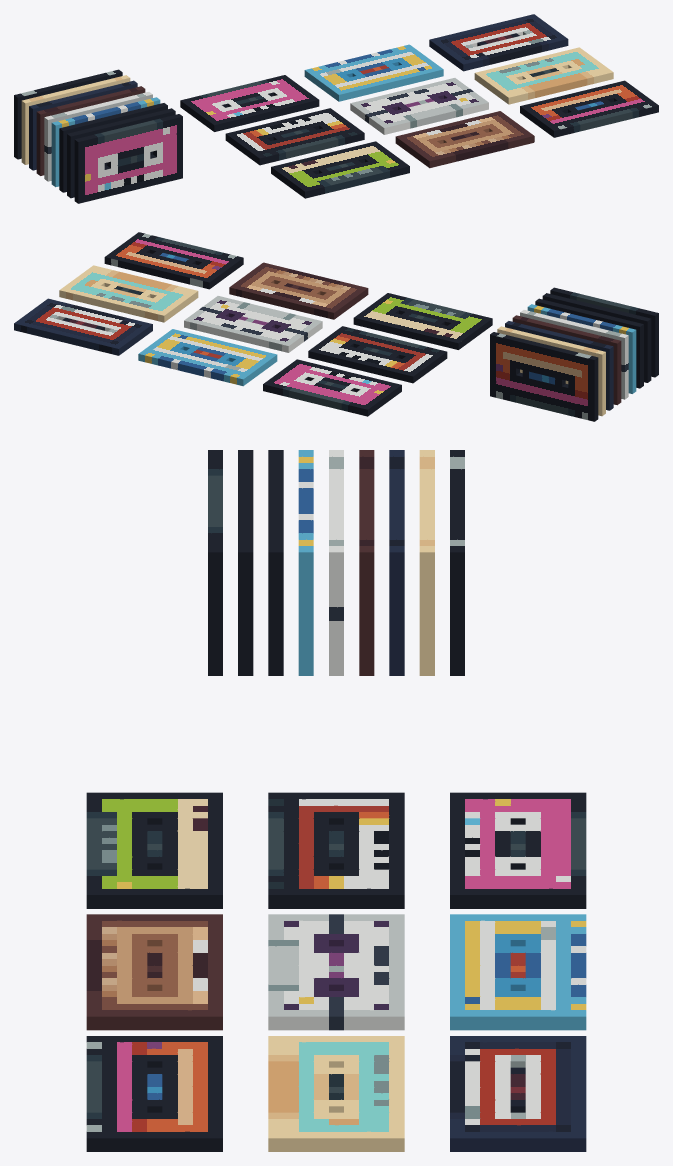
The model's file is cassette.gltf.
3 views of the same model, one above another, from view 1: azimuth 30°, elevation 25°; view 2: azimuth 150°, elevation 25°; view 3: azimuth 270°, elevation 25° (orthographic). The views are drawn at different scales.
Parts seen in each view (by area): view 1: dba01d5c-e5ff-0139-42b0-fa9caeefd33b_60, 944ec6bf-74b9-09a5-8c65-0edcdf06d1db_59, b11d3a50-2eb6-d515-47a6-80f2ba2d221c_57, 27c86312-893c-df17-f04e-76f054211648_61, 46438454-2e29-c8b2-bd24-33da45283afb_40, 01e09fb2-f293-d9f7-32dc-adf88a7c8351_16, c99c4dc4-1614-0967-ed47-35e3dfdc2b39_22, 9fb91285-8524-d3d2-edd9-91dd8a35c151_34, 2e8fb262-2e87-f7c9-bfe1-3902e0326695_46, d0fcfe18-6b99-1fb1-1227-7081acd08198_4, 708e3056-2c17-e092-43ad-4884959a681c_10, 40709a30-ba6e-0be1-0994-65b539ece509_52 (+45 smaller); view 2: 69b3a82b-7abc-6428-7893-d1bb721ed423_105, 81ef698e-82b2-a2dd-b04b-b4439863406d_108, 8023803f-db0a-9fdb-8421-ac52ca0b7873_106, 5b567adc-9938-9de3-edac-0ab159273f78_109, 40709a30-ba6e-0be1-0994-65b539ece509_52, d0fcfe18-6b99-1fb1-1227-7081acd08198_4, c99c4dc4-1614-0967-ed47-35e3dfdc2b39_22, 9fb91285-8524-d3d2-edd9-91dd8a35c151_34, 2e8fb262-2e87-f7c9-bfe1-3902e0326695_46, 708e3056-2c17-e092-43ad-4884959a681c_10, 01e09fb2-f293-d9f7-32dc-adf88a7c8351_16, 46438454-2e29-c8b2-bd24-33da45283afb_40 (+45 smaller); view 3: f1f50c6f-960e-a3f4-1a6b-6b08d45befc9_9, 9de8d4df-b696-7938-6e69-01106f19448f_27, 55faf73e-70f7-c9b9-d4ae-45eeabddb3b0_45, b8f41e9e-6ff2-d152-2ef5-a394fe089315_3, d4f0cc1b-2ad0-6ca9-9c86-52af8bf47bb4_15, 3a7e12b2-a648-2724-2e19-105e2ea44c71_21, b48f9f81-61b3-e073-5c47-6437027111e8_33, 48b816ac-44c3-4e0b-c3ce-b25eb82a6cd2_39, 1fbfa798-2292-16de-2a61-882e7134f4c5_51, d0fcfe18-6b99-1fb1-1227-7081acd08198_4, 01e09fb2-f293-d9f7-32dc-adf88a7c8351_16, 708e3056-2c17-e092-43ad-4884959a681c_10 (+33 smaller).
Boxes of the visible parts, x1,y1,x2,y2 form: dba01d5c-e5ff-0139-42b0-fa9caeefd33b_60: (74, 133, 104, 203); 944ec6bf-74b9-09a5-8c65-0edcdf06d1db_59: (153, 114, 182, 184); b11d3a50-2eb6-d515-47a6-80f2ba2d221c_57: (101, 120, 156, 162); 27c86312-893c-df17-f04e-76f054211648_61: (104, 154, 156, 197); 46438454-2e29-c8b2-bd24-33da45283afb_40: (429, 33, 489, 71); 01e09fb2-f293-d9f7-32dc-adf88a7c8351_16: (271, 160, 331, 198); c99c4dc4-1614-0967-ed47-35e3dfdc2b39_22: (304, 63, 364, 101); 9fb91285-8524-d3d2-edd9-91dd8a35c151_34: (395, 130, 455, 168); 2e8fb262-2e87-f7c9-bfe1-3902e0326695_46: (474, 66, 534, 104); d0fcfe18-6b99-1fb1-1227-7081acd08198_4: (180, 94, 240, 131); 708e3056-2c17-e092-43ad-4884959a681c_10: (225, 127, 285, 165); 40709a30-ba6e-0be1-0994-65b539ece509_52: (520, 100, 580, 137); 69b3a82b-7abc-6428-7893-d1bb721ed423_105: (568, 351, 598, 421); 81ef698e-82b2-a2dd-b04b-b4439863406d_108: (490, 332, 519, 402); 8023803f-db0a-9fdb-8421-ac52ca0b7873_106: (516, 338, 571, 380); 5b567adc-9938-9de3-edac-0ab159273f78_109: (516, 372, 568, 415); 40709a30-ba6e-0be1-0994-65b539ece509_52: (183, 251, 243, 289); d0fcfe18-6b99-1fb1-1227-7081acd08198_4: (341, 378, 401, 416); c99c4dc4-1614-0967-ed47-35e3dfdc2b39_22: (217, 348, 277, 386); 9fb91285-8524-d3d2-edd9-91dd8a35c151_34: (308, 281, 368, 319); 2e8fb262-2e87-f7c9-bfe1-3902e0326695_46: (138, 284, 198, 322); 708e3056-2c17-e092-43ad-4884959a681c_10: (387, 345, 447, 383); 01e09fb2-f293-d9f7-32dc-adf88a7c8351_16: (432, 312, 492, 349); 46438454-2e29-c8b2-bd24-33da45283afb_40: (92, 318, 152, 355); f1f50c6f-960e-a3f4-1a6b-6b08d45befc9_9: (268, 869, 404, 908); 9de8d4df-b696-7938-6e69-01106f19448f_27: (268, 991, 404, 1030); 55faf73e-70f7-c9b9-d4ae-45eeabddb3b0_45: (268, 1112, 404, 1151); b8f41e9e-6ff2-d152-2ef5-a394fe089315_3: (450, 869, 586, 908); d4f0cc1b-2ad0-6ca9-9c86-52af8bf47bb4_15: (86, 869, 222, 908); 3a7e12b2-a648-2724-2e19-105e2ea44c71_21: (450, 991, 586, 1030); b48f9f81-61b3-e073-5c47-6437027111e8_33: (86, 991, 222, 1030); 48b816ac-44c3-4e0b-c3ce-b25eb82a6cd2_39: (450, 1112, 586, 1151); 1fbfa798-2292-16de-2a61-882e7134f4c5_51: (86, 1112, 222, 1151); d0fcfe18-6b99-1fb1-1227-7081acd08198_4: (450, 792, 586, 824); 01e09fb2-f293-d9f7-32dc-adf88a7c8351_16: (86, 792, 222, 824); 708e3056-2c17-e092-43ad-4884959a681c_10: (268, 792, 404, 824).
Size of the model in its own units: 5.25 by 0.75 by 2.06.
Materials: 1 (1 with a texture image).
